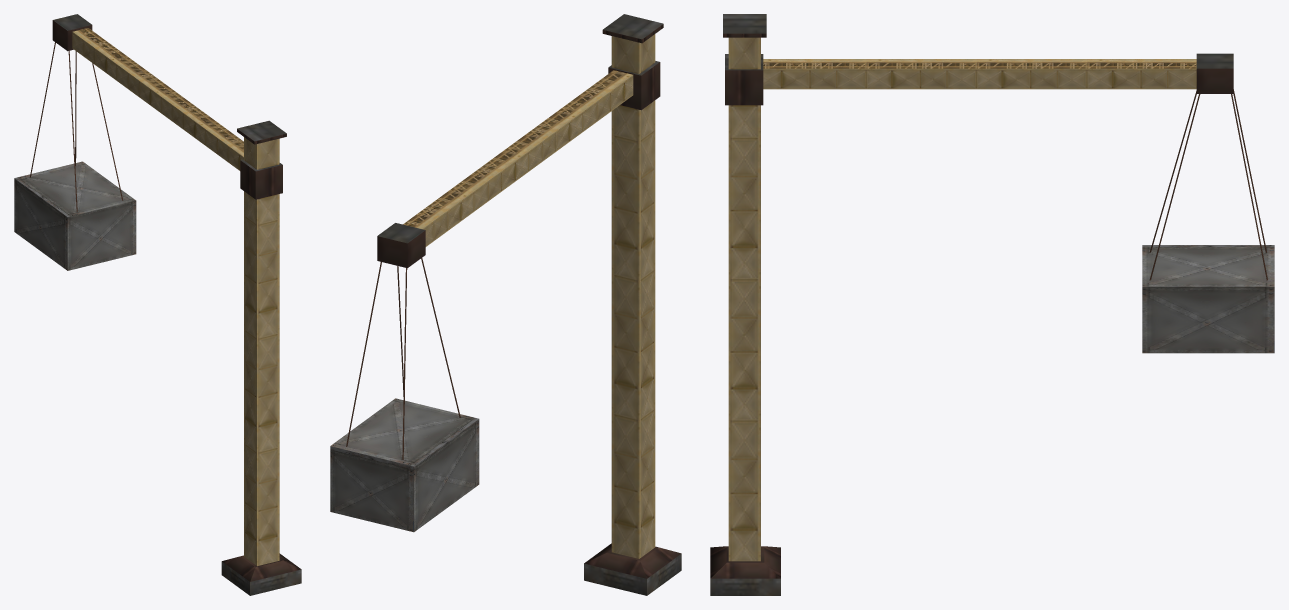
Rendered from crane_body.fbx.
3 renders of one model, left to right at view 1: azimuth 30°, elevation 25°; view 2: azimuth 150°, elevation 25°; view 3: azimuth 270°, elevation 25°, orthographic. The views are drawn at different scales.
Parts seen in each view (by area): view 1: crane_body; view 2: crane_body; view 3: crane_body.
Boxes of the visible parts, x1=… form: crane_body: x1=14, y1=14, x2=301, y2=595; crane_body: x1=330, y1=14, x2=681, y2=595; crane_body: x1=710, y1=14, x2=1274, y2=595.
Bounding box in the file's own units: 2.77 × 17.35 × 15.94.
